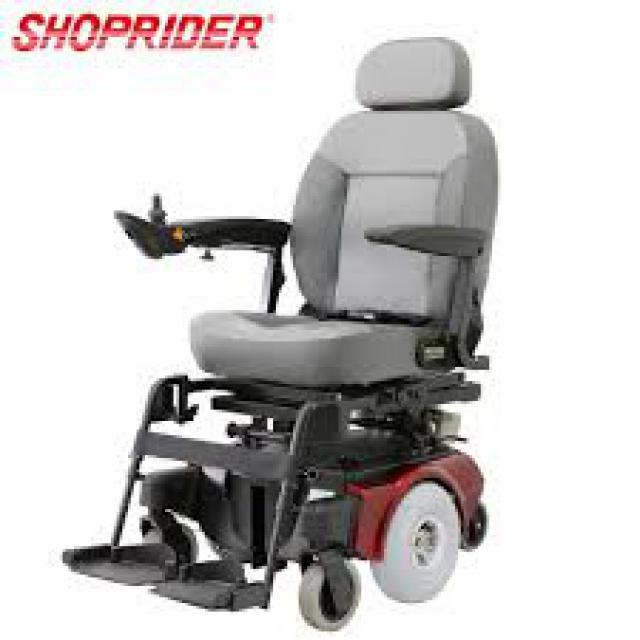wheelchair: (54, 26, 495, 632)
